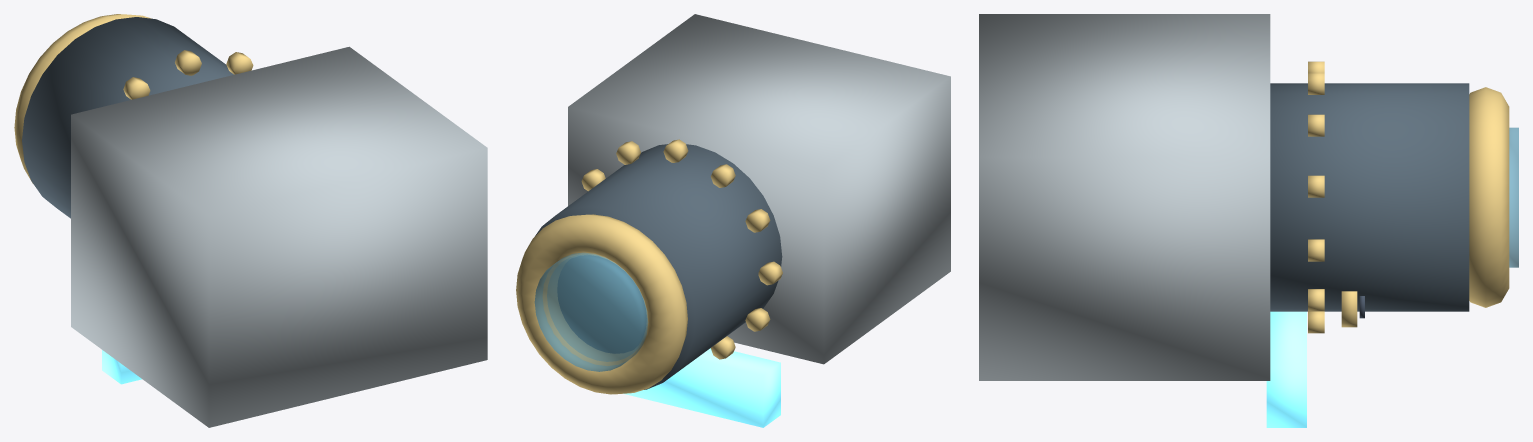
Rendered from L84_63_MissionPayloadBoresightReference_Fitted.fbx.
The picture shows the model from 3 angles, left to right: view 1: azimuth 30°, elevation 25°; view 2: azimuth 150°, elevation 25°; view 3: azimuth 270°, elevation 25°; orthographic projection. The views are drawn at different scales.
Visible parts, largest first — view 1: L84_MissionPayloadBoresightReference_Static__tint91A3AD, L84_MissionPayloadBoresightReference_Static__tint1C2933, L84_MissionPayloadBoresightReference_Static__tintF2B547, L84_MissionPayloadBoresightReference_Static__tint38CCFC; view 2: L84_MissionPayloadBoresightReference_Static__tint91A3AD, L84_MissionPayloadBoresightReference_Static__tint1C2933, L84_MissionPayloadBoresightReference_Static__tintF2B547, L84_MissionPayloadBoresightReference_Static__glass, L84_MissionPayloadBoresightReference_Static__tint38CCFC; view 3: L84_MissionPayloadBoresightReference_Static__tint91A3AD, L84_MissionPayloadBoresightReference_Static__tint1C2933, L84_MissionPayloadBoresightReference_Static__tintF2B547, L84_MissionPayloadBoresightReference_Static__tint38CCFC, L84_MissionPayloadBoresightReference_Static__glass.
Boxes of the visible parts, x1,y1,x2,y2 form: L84_MissionPayloadBoresightReference_Static__tint91A3AD: [71, 46, 487, 427]; L84_MissionPayloadBoresightReference_Static__tint1C2933: [22, 17, 233, 218]; L84_MissionPayloadBoresightReference_Static__tintF2B547: [14, 14, 253, 183]; L84_MissionPayloadBoresightReference_Static__tint38CCFC: [102, 350, 141, 384]; L84_MissionPayloadBoresightReference_Static__tint91A3AD: [568, 14, 950, 364]; L84_MissionPayloadBoresightReference_Static__tint1C2933: [535, 144, 782, 389]; L84_MissionPayloadBoresightReference_Static__tintF2B547: [516, 139, 782, 394]; L84_MissionPayloadBoresightReference_Static__glass: [534, 252, 648, 371]; L84_MissionPayloadBoresightReference_Static__tint38CCFC: [623, 348, 780, 427]; L84_MissionPayloadBoresightReference_Static__tint91A3AD: [979, 14, 1270, 380]; L84_MissionPayloadBoresightReference_Static__tint1C2933: [1270, 83, 1469, 311]; L84_MissionPayloadBoresightReference_Static__tintF2B547: [1308, 61, 1509, 333]; L84_MissionPayloadBoresightReference_Static__tint38CCFC: [1266, 311, 1306, 427]; L84_MissionPayloadBoresightReference_Static__glass: [1509, 127, 1518, 267].
Bounding box in the file's own units: 8.83 × 8.85 × 14.06.
